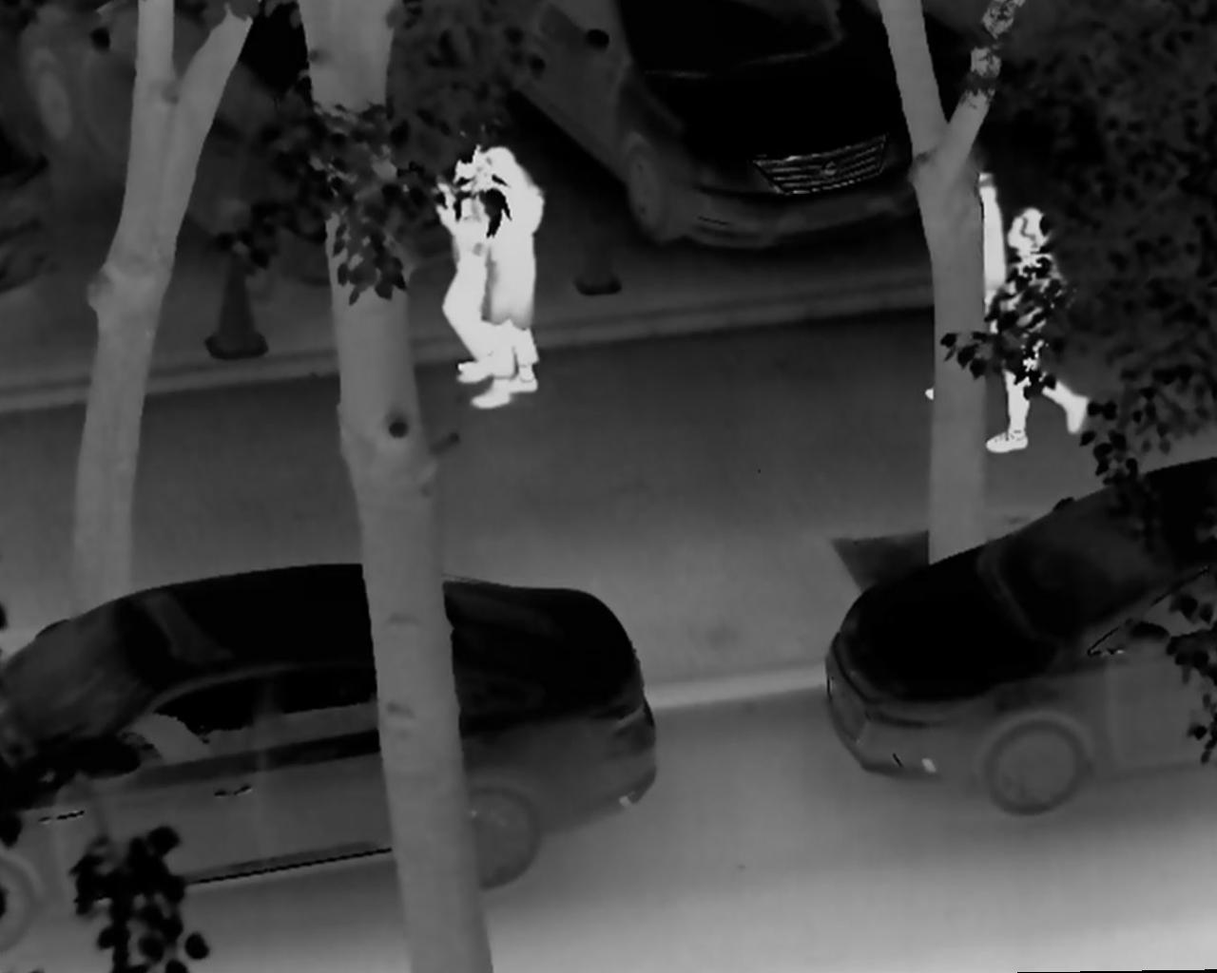person: (429, 105, 537, 390), (983, 200, 1089, 458), (923, 158, 1006, 404), (466, 145, 542, 413)
